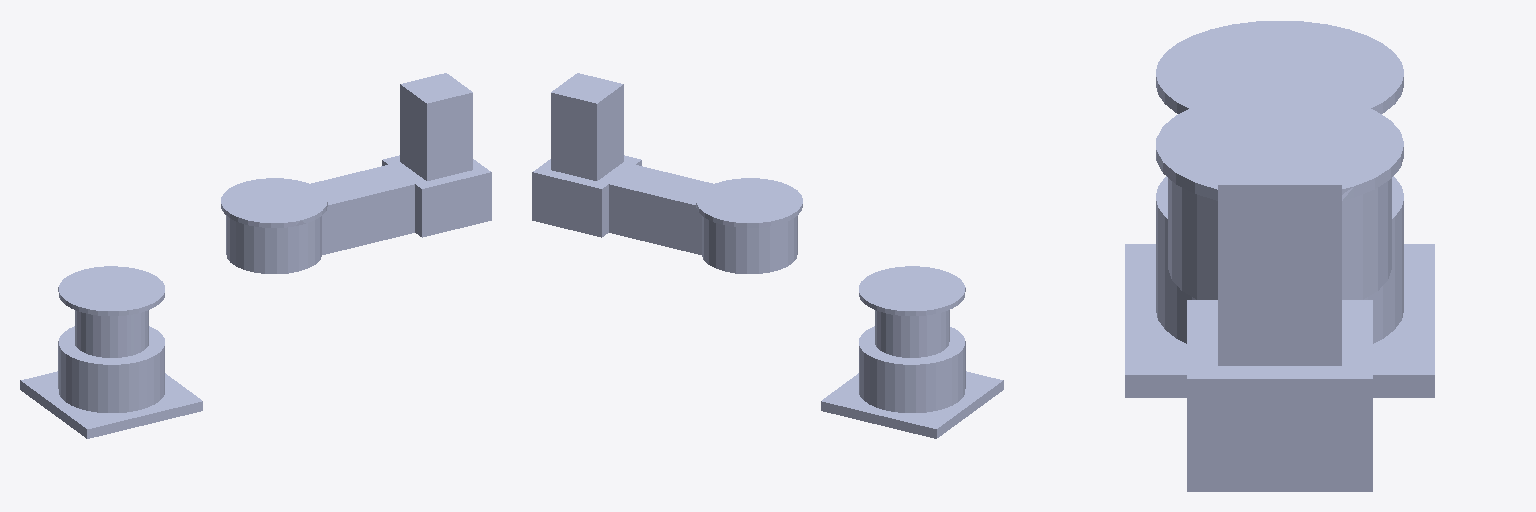
URDF robot description (3D_CAD_Scara10):
<?xml version="1.0" encoding="utf-8"?>
<!-- This URDF was automatically created by SolidWorks to URDF Exporter! Originally created by Stephen Brawner (brawner@gmail.com) 
     Commit Version: 1.6.0-4-g7f85cfe  Build Version: 1.6.7995.38578
     For more information, please see http://wiki.ros.org/sw_urdf_exporter -->
<robot
  name="3D_CAD_Scara10">
  <link
    name="base_link">
    <inertial>
      <origin
        xyz="3.46944695195361E-18 0 0.0904371532311637"
        rpy="0 0 0" />
      <mass
        value="6.24513231920778" />
      <inertia
        ixx="0.045813663764175"
        ixy="3.97540796578018E-19"
        ixz="-9.63986910665323E-19"
        iyy="0.045813663764175"
        iyz="-5.6497925389599E-19"
        izz="0.0340710749087118" />
    </inertial>
    <visual>
      <origin
        xyz="0 0 0"
        rpy="0 0 0" />
      <geometry>
        <mesh
          filename="package://3D_CAD_Scara10/meshes/base_link.STL" />
      </geometry>
      <material
        name="">
        <color
          rgba="0.792156862745098 0.819607843137255 0.933333333333333 1" />
      </material>
    </visual>
    <collision>
      <origin
        xyz="0 0 0"
        rpy="0 0 0" />
      <geometry>
        <mesh
          filename="package://3D_CAD_Scara10/meshes/base_link.STL" />
      </geometry>
    </collision>
  </link>
  <link
    name="Link01_Link">
    <inertial>
      <origin
        xyz="0.253234063748096 0 0.0223525896423132"
        rpy="0 0 0" />
      <mass
        value="6.88681009624485" />
      <inertia
        ixx="0.0295621799270038"
        ixy="-4.64557864260634E-18"
        ixz="-0.0148959585678893"
        iyy="0.146584300092122"
        iyz="-6.22151967513491E-20"
        izz="0.140762682864953" />
    </inertial>
    <visual>
      <origin
        xyz="0 0 0"
        rpy="0 0 0" />
      <geometry>
        <mesh
          filename="package://3D_CAD_Scara10/meshes/Link01_Link.STL" />
      </geometry>
      <material
        name="">
        <color
          rgba="0.792156862745098 0.819607843137255 0.933333333333333 1" />
      </material>
    </visual>
    <collision>
      <origin
        xyz="0 0 0"
        rpy="0 0 0" />
      <geometry>
        <mesh
          filename="package://3D_CAD_Scara10/meshes/Link01_Link.STL" />
      </geometry>
    </collision>
  </link>
  <joint
    name="Joint01_joint"
    type="continuous">
    <origin
      xyz="0 0 0.17"
      rpy="0 0 0" />
    <parent
      link="base_link" />
    <child
      link="Link01_Link" />
    <axis
      xyz="0 0 1" />
  </joint>
  <link
    name="Link02_Link">
    <inertial>
      <origin
        xyz="0.174408306120747 9.11106830767672E-05 0.00387140852064083"
        rpy="0 0 0" />
      <mass
        value="4.46317135032902" />
      <inertia
        ixx="0.0133846284356313"
        ixy="-2.76530612549761E-05"
        ixz="0.00301355919278687"
        iyy="0.0962243535370692"
        iyz="1.57427958940005E-06"
        izz="0.100921848562148" />
    </inertial>
    <visual>
      <origin
        xyz="0 0 0"
        rpy="0 0 0" />
      <geometry>
        <mesh
          filename="package://3D_CAD_Scara10/meshes/Link02_Link.STL" />
      </geometry>
      <material
        name="">
        <color
          rgba="0.792156862745098 0.819607843137255 0.933333333333333 1" />
      </material>
    </visual>
    <collision>
      <origin
        xyz="0 0 0"
        rpy="0 0 0" />
      <geometry>
        <mesh
          filename="package://3D_CAD_Scara10/meshes/Link02_Link.STL" />
      </geometry>
    </collision>
  </link>
  <joint
    name="joint02_joint"
    type="continuous">
    <origin
      xyz="0.35 0 0.1"
      rpy="0 0 0" />
    <parent
      link="Link01_Link" />
    <child
      link="Link02_Link" />
    <axis
      xyz="0 0 1" />
  </joint>
  <link
    name="Link03_Link">
    <inertial>
      <origin
        xyz="-5.44009282066327E-15 3.33066907387547E-15 -0.0289984738649371"
        rpy="0 0 0" />
      <mass
        value="2.621" />
      <inertia
        ixx="0.0171776793272288"
        ixy="-1.28693386662647E-18"
        ixz="-6.1905668561219E-19"
        iyy="0.0171776793272288"
        iyz="-7.23566034991293E-20"
        izz="0.00441068333333334" />
    </inertial>
    <visual>
      <origin
        xyz="0 0 0"
        rpy="0 0 0" />
      <geometry>
        <mesh
          filename="package://3D_CAD_Scara10/meshes/Link03_Link.STL" />
      </geometry>
      <material
        name="">
        <color
          rgba="0.792156862745098 0.819607843137255 0.933333333333333 1" />
      </material>
    </visual>
    <collision>
      <origin
        xyz="0 0 0"
        rpy="0 0 0" />
      <geometry>
        <mesh
          filename="package://3D_CAD_Scara10/meshes/Link03_Link.STL" />
      </geometry>
    </collision>
  </link>
  <joint
    name="joint03_joint"
    type="prismatic">
    <origin
      xyz="0.35 0.000125314072334626 0.05"
      rpy="3.14159265358979 0 0" />
    <parent
      link="Link02_Link" />
    <child
      link="Link03_Link" />
    <axis
      xyz="0 0 1" />
    <limit
      lower="0"
      upper="0.159999999999085"
      effort="0"
      velocity="0" />
  </joint>
  <link
    name="End_efector_Link">
    <inertial>
      <origin
        xyz="0 -1.11022302462516E-16 -0.128998473864937"
        rpy="0 0 0" />
      <mass
        value="2.621" />
      <inertia
        ixx="0.0171776793272288"
        ixy="-1.28693386662647E-18"
        ixz="-9.53959323633368E-19"
        iyy="0.0171776793272288"
        iyz="-4.34696456527203E-19"
        izz="0.00441068333333334" />
    </inertial>
    <visual>
      <origin
        xyz="0 0 0"
        rpy="0 0 0" />
      <geometry>
        <mesh
          filename="package://3D_CAD_Scara10/meshes/End_efector_Link.STL" />
      </geometry>
      <material
        name="">
        <color
          rgba="0.792156862745098 0.819607843137255 0.933333333333333 1" />
      </material>
    </visual>
    <collision>
      <origin
        xyz="0 0 0"
        rpy="0 0 0" />
      <geometry>
        <mesh
          filename="package://3D_CAD_Scara10/meshes/End_efector_Link.STL" />
      </geometry>
    </collision>
  </link>
  <joint
    name="Endefector_joint"
    type="fixed">
    <origin
      xyz="0 0 0.0999999999999999"
      rpy="0 0 0" />
    <parent
      link="Link03_Link" />
    <child
      link="End_efector_Link" />
    <axis
      xyz="0 0 0" />
  </joint>
</robot>

--- Facts derived from the render (not from the file) ---
3 views of the same robot in one strip: view 1: azimuth 30°, elevation 25°; view 2: azimuth 150°, elevation 25°; view 3: azimuth 270°, elevation 25° (orthographic).
Robot: 3D_CAD_Scara10 — 5 links, 4 joints (2 continuous, 1 prismatic, 1 fixed); root link base_link; default pose: all joints at 0.
Links seen in each view (by area): view 1: Link02_Link, base_link, Link03_Link; view 2: Link02_Link, base_link, Link03_Link; view 3: Link02_Link, base_link, Link03_Link.
Boxes of the visible links, left/top/right/bottom form: Link02_Link: left=221, top=155, right=491, bottom=273; base_link: left=20, top=266, right=202, bottom=438; Link03_Link: left=400, top=73, right=472, bottom=180; Link02_Link: left=532, top=155, right=802, bottom=273; base_link: left=821, top=266, right=1003, bottom=438; Link03_Link: left=551, top=73, right=623, bottom=180; Link02_Link: left=1156, top=92, right=1403, bottom=491; base_link: left=1125, top=21, right=1434, bottom=397; Link03_Link: left=1218, top=133, right=1341, bottom=365.
Size in the robot's own frame: 0.9 by 0.25 by 0.48 metres.
3 mesh visuals loaded from 5 distinct referenced files (3 binary STL); not drawn: 2 (reference not matched to a file when rendering).
